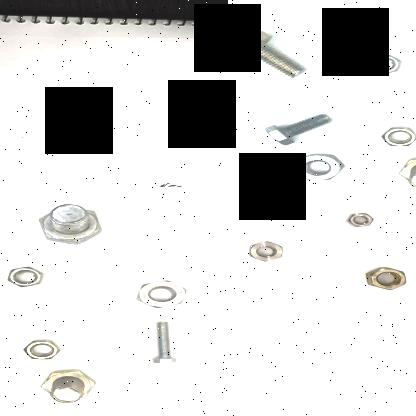Bolts: (228, 25, 309, 83), (26, 203, 104, 248), (252, 106, 336, 146), (24, 367, 96, 406), (142, 318, 180, 366), (390, 153, 416, 187)
NUTS: (130, 274, 193, 310), (282, 152, 350, 184), (0, 263, 46, 293), (360, 50, 408, 78), (19, 332, 61, 364), (370, 123, 416, 149), (238, 239, 290, 262), (365, 267, 408, 292), (346, 207, 376, 230), (154, 179, 190, 187)
